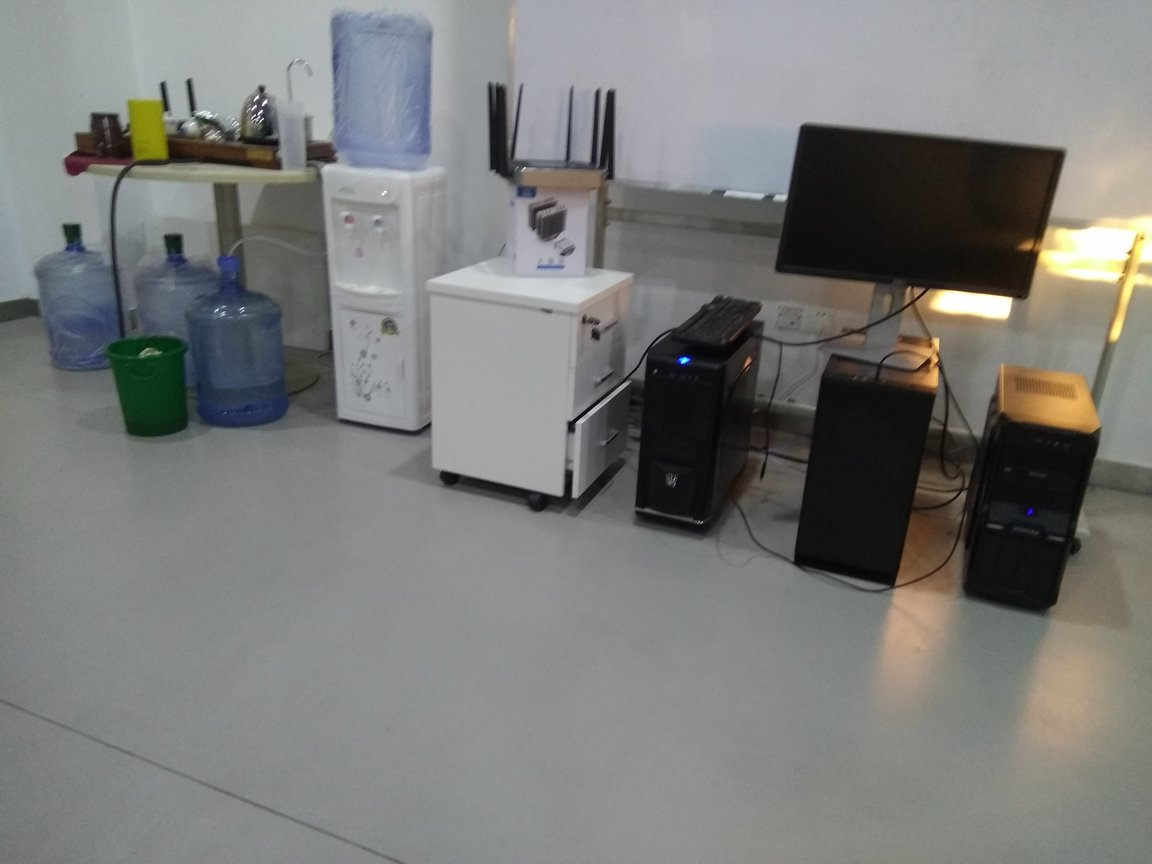computer: (795, 327, 935, 596), (966, 359, 1102, 622), (636, 315, 764, 545)
drawer chest: (422, 256, 634, 521)
monitor: (774, 109, 1071, 372)
scuttlebutt: (323, 9, 449, 180), (184, 260, 289, 435), (128, 235, 217, 408), (29, 222, 124, 371)
water dispenser: (315, 155, 450, 437)
